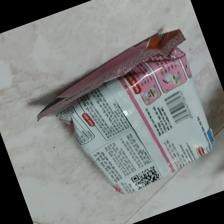Haohao: (36, 28, 214, 201)
